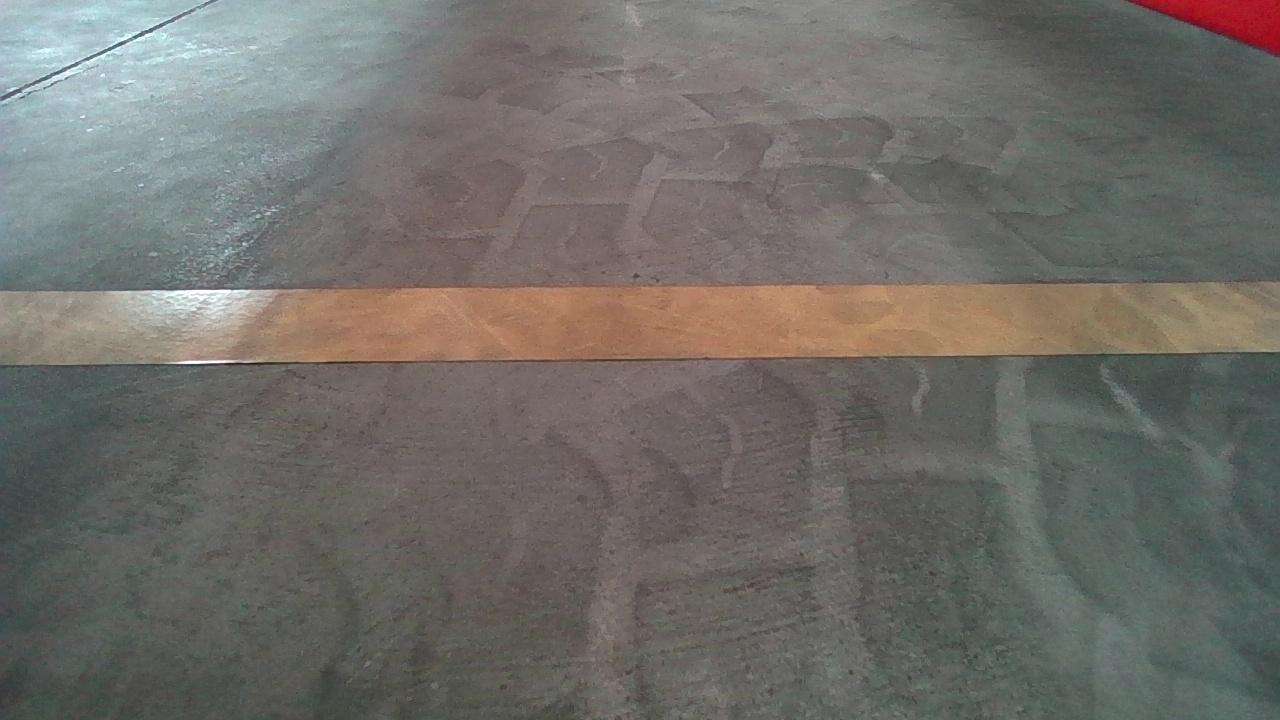yellow_line: (0, 275, 1278, 365)
